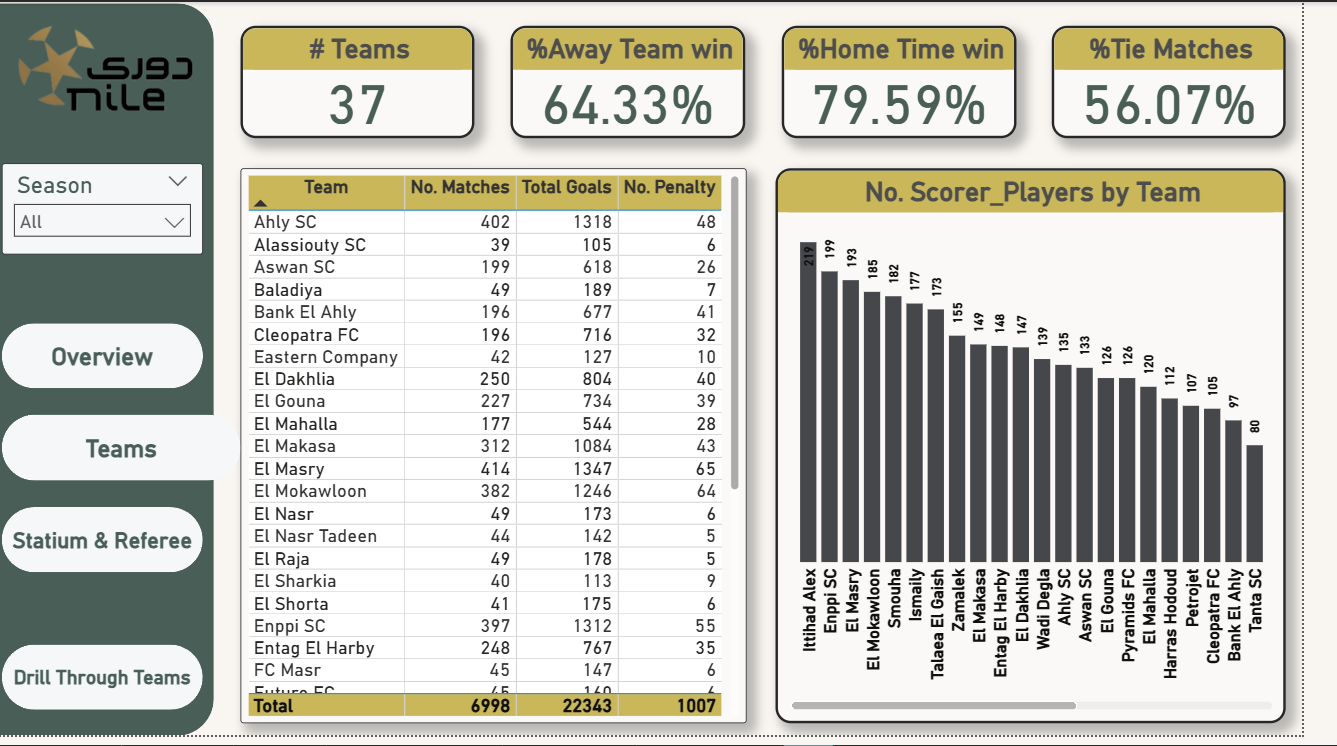

This screenshot's page, from the dashboard's own definition file:
{"tool":"powerbi","page":{"name":"Teams","canvas":[1280,720],"ordinal":1},"visuals":[{"type":"card","title":"# Teams","fields":{"Values":["_Measures.No. Teams"]},"box":[238,23.3,229.4,110.4],"z":0},{"type":"card","title":"%Away Team win","fields":{"Values":["_Measures.%Away Team win"]},"box":[503.1,23.7,230,110],"z":1000},{"type":"card","title":"%Home Time win","fields":{"Values":["_Measures.%Home Team Win"]},"box":[768.7,23.9,230,110],"z":2000},{"type":"card","title":"%Tie Matches","fields":{"Values":["_Measures.%Tie Matches"]},"box":[1034.4,23.3,229.4,110.4],"z":3000},{"type":"tableEx","fields":{"Values":["Dim_Team.Team","_Measures.No. Matches","_Measures.Total Goals","_Measures.No. Penalty"]},"box":[238,163.2,496.9,544.8],"z":4000},{"type":"columnChart","fields":{"Category":["Dim_Team.Team"],"Y":["_Measures.No. Scorer_Players"]},"box":[763.2,163.2,500.6,544.8],"z":5000},{"type":"shape","box":[0,1,211.8,719],"z":6000},{"type":"image","box":[14.5,16.9,182.8,95.6],"z":7000},{"type":"slicer","fields":{"Values":["Dim_Season.Season"]},"box":[3.6,158.6,197.3,89.6],"z":8000},{"type":"shape","box":[3.7,315.3,197.5,63.8],"z":9000},{"type":"shape","box":[3.7,404.9,234.4,65],"z":10000},{"type":"shape","box":[3.6,496.3,197.3,64.2],"z":11000},{"type":"actionButton","box":[25.8,315.3,152.1,63.8],"z":12000},{"type":"actionButton","box":[45.4,406.1,152.1,63.8],"z":13000},{"type":"actionButton","box":[14.7,495.7,182.8,63.8],"z":14000},{"type":"shape","box":[3.6,630.7,197.3,64.2],"z":15000}]}

Visuals, with their boxes in screenshot pixels (x1, y1, x2, y2), scaled from the page's 1280x720 canvas onto the 1337x746 screenshot:
"# Teams" card: bbox=(249, 24, 488, 139)
"%Away Team win" card: bbox=(526, 25, 766, 139)
"%Home Time win" card: bbox=(803, 25, 1043, 139)
"%Tie Matches" card: bbox=(1080, 24, 1320, 139)
tableEx - Dim_Team.Team x _Measures.No. Matches: bbox=(249, 169, 768, 734)
columnChart - Dim_Team.Team x _Measures.No. Scorer_Players: bbox=(797, 169, 1320, 734)
shape: bbox=(0, 1, 221, 745)
image: bbox=(15, 18, 206, 117)
slicer - Dim_Season.Season: bbox=(4, 164, 210, 257)
shape: bbox=(4, 327, 210, 393)
shape: bbox=(4, 420, 249, 487)
shape: bbox=(4, 514, 210, 581)
actionButton: bbox=(27, 327, 186, 393)
actionButton: bbox=(47, 421, 206, 487)
actionButton: bbox=(15, 514, 206, 580)
shape: bbox=(4, 653, 210, 720)
